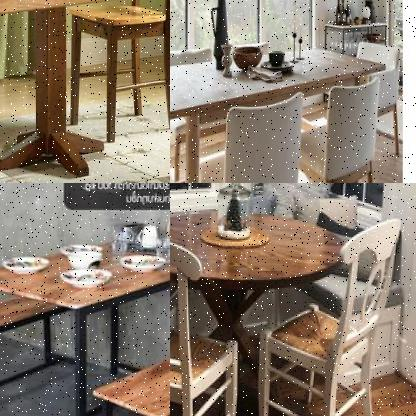table: (170, 203, 354, 415), (170, 41, 391, 182), (0, 235, 169, 415), (0, 0, 161, 182)
